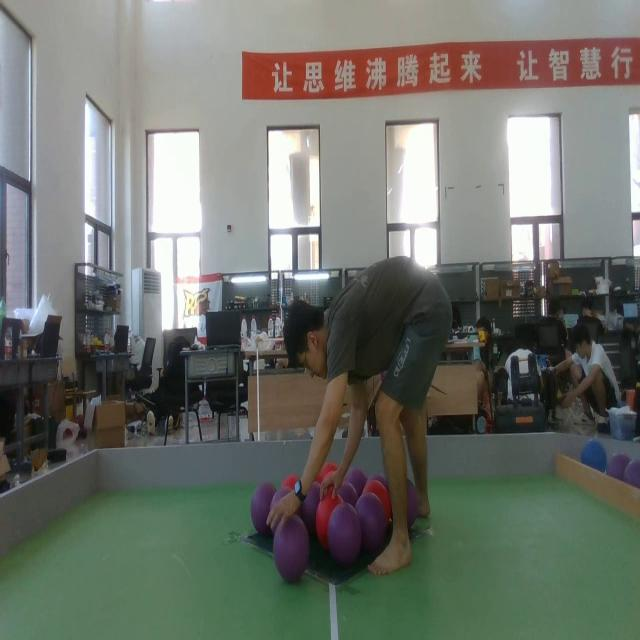blue: (580, 430, 610, 485)
invalid: (270, 513, 310, 580), (326, 500, 356, 564), (352, 493, 384, 545), (250, 480, 279, 532), (388, 482, 420, 524), (341, 464, 370, 494), (300, 485, 322, 523), (623, 460, 640, 504), (606, 456, 627, 486), (336, 481, 358, 506)
red: (362, 480, 392, 524), (317, 492, 343, 542), (317, 462, 336, 481), (281, 474, 301, 490)
